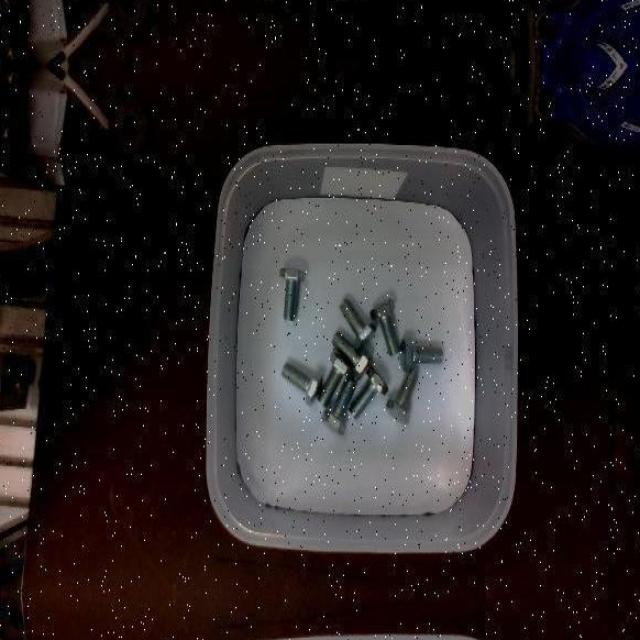screw: (348, 366, 388, 421), (331, 331, 372, 381), (338, 297, 376, 350), (320, 376, 355, 433), (386, 368, 419, 424), (318, 351, 352, 405), (370, 299, 402, 356), (281, 360, 321, 405), (399, 336, 443, 372), (279, 266, 306, 321)
